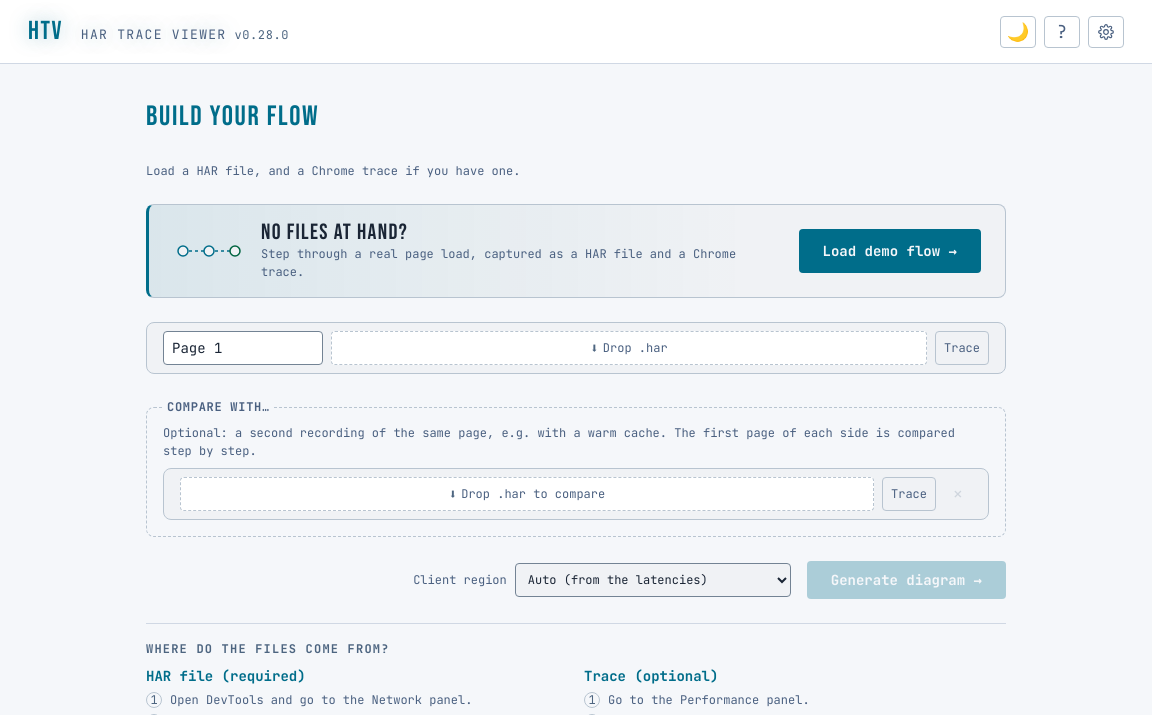
Test case: App — keyboard shortcuts › c and the header button open the settings, and Close closes them
Type keys "c"
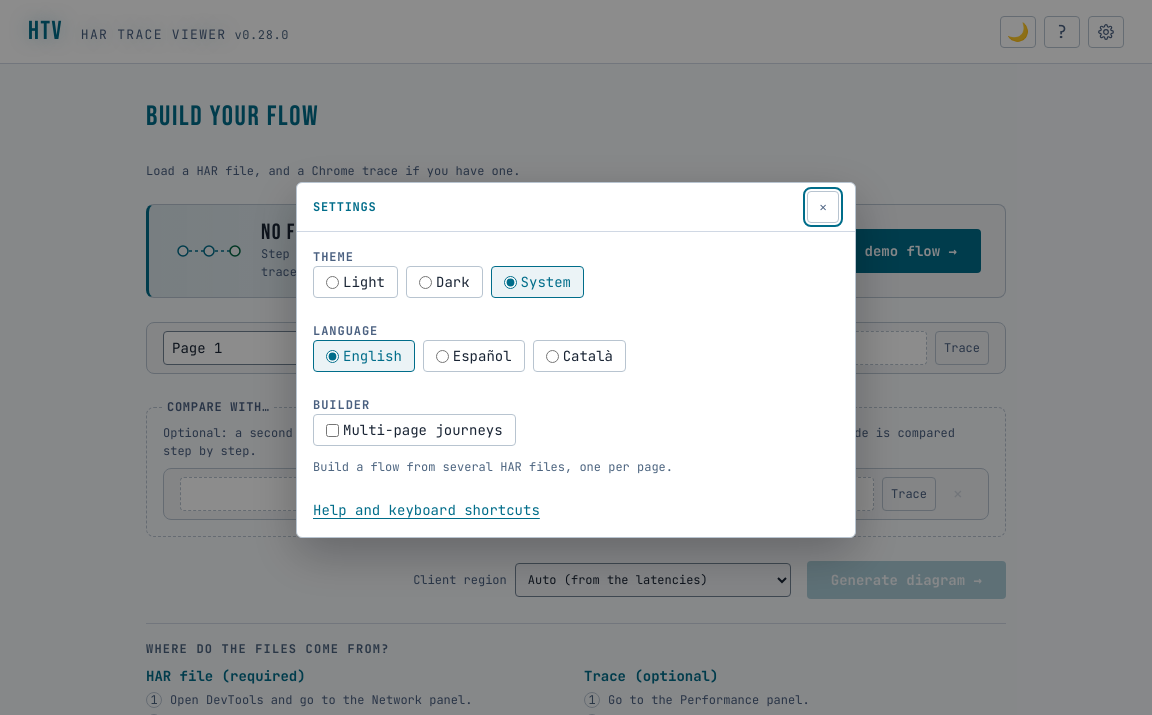
Click the button named "Close" at (823, 207), box [807,191,839,223]
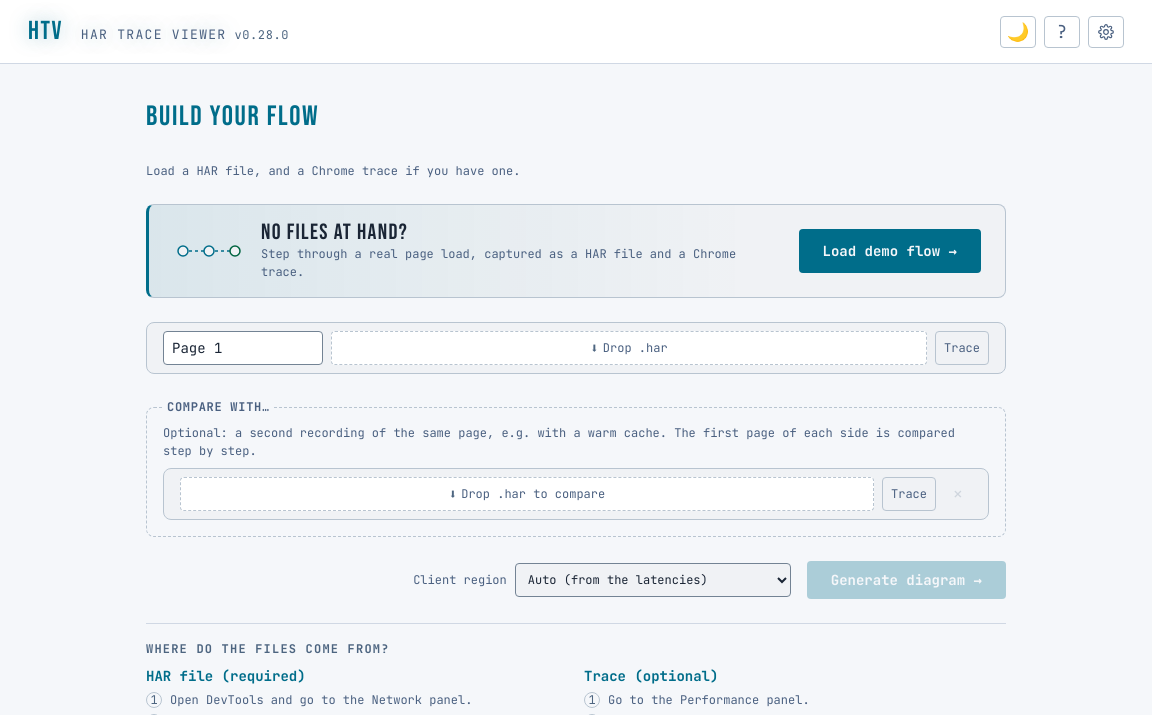
Check: the dialog is gone
Click the button named "Settings" at (1106, 32), box [1088,16,1124,48]
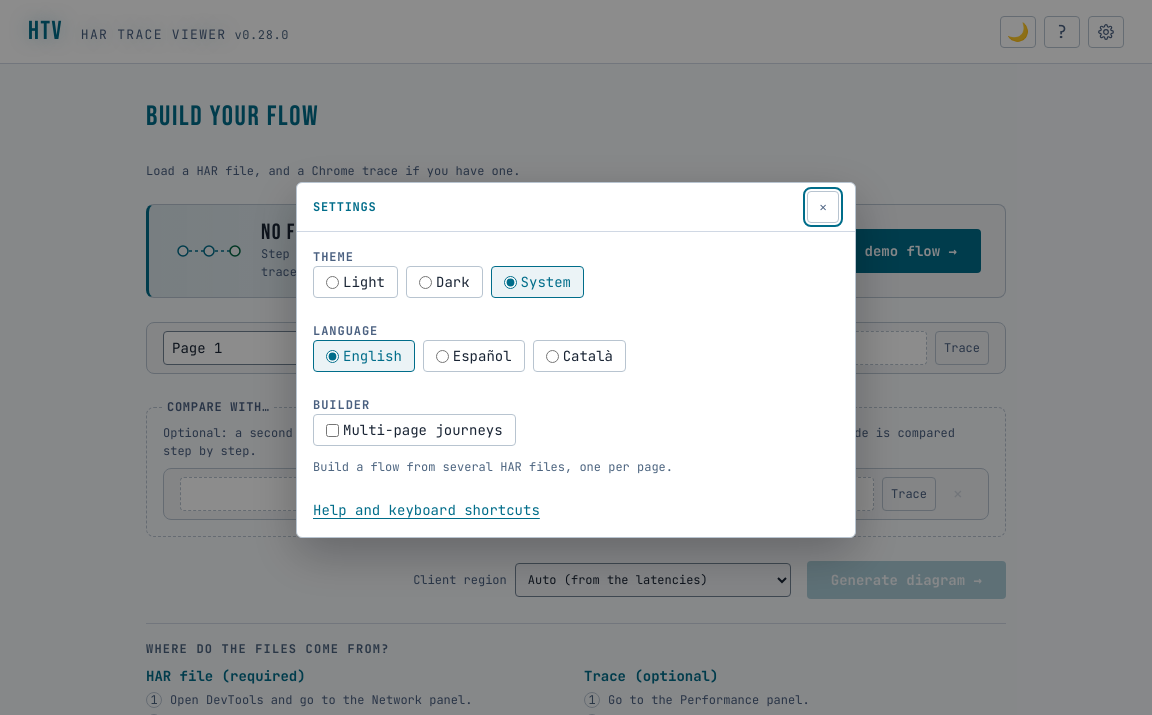
Check: the dialog "Settings" is shown, box [296,182,856,538]
